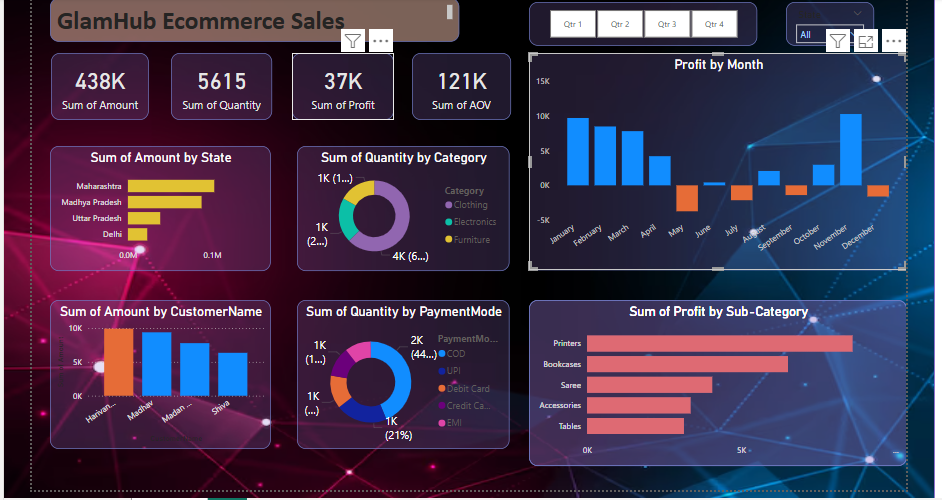

Layout of this report page (visuals, bound fields, positions):
{"tool":"powerbi","page":{"name":"Page 1","canvas":[1280,720],"ordinal":0},"visuals":[{"type":"textbox","box":[26.3,0,598.5,64.4],"z":0},{"type":"columnChart","title":"Profit by Month","fields":{"Y":["Sum(Details.Profit)"],"Category":["Orders.Order Date.Variation.Date Hierarchy.Month"]},"box":[727.3,80.5,553.2,317.6],"z":1000},{"type":"barChart","fields":{"Y":["Sum(Details.Profit)"],"Category":["Details.Sub-Category"]},"box":[727.3,442,553.2,242.9],"z":2000},{"type":"donutChart","fields":{"Category":["Details.Category"],"Y":["Sum(Details.Quantity)"]},"box":[387.2,216.4,311.1,182.6],"z":3000},{"type":"donutChart","fields":{"Y":["Sum(Details.Quantity)"],"Category":["Details.PaymentMode"]},"box":[387.2,441.3,311.1,218.1],"z":4000},{"type":"card","fields":{"Values":["Sum(Details.Amount)"]},"box":[27.8,80.5,143.4,98],"z":5000},{"type":"card","fields":{"Values":["Sum(Details.Quantity)"]},"box":[203.4,80.5,147.8,98],"z":6000},{"type":"card","fields":{"Values":["Sum(Details.Profit)"]},"box":[380.5,80.5,149.3,98],"z":7000},{"type":"card","fields":{"Values":["Sum(Details.AOV)"]},"box":[556.1,80.5,144.9,98],"z":8000},{"type":"barChart","fields":{"Y":["Sum(Details.Profit)"],"Category":["Details.Sub-Category"]},"box":[726.8,442,553.2,242.9],"z":9000},{"type":"barChart","fields":{"Y":["Sum(Details.Amount)"],"Category":["Orders.State"]},"box":[27.1,216.4,323,182.6],"z":10000},{"type":"columnChart","fields":{"Category":["Orders.CustomerName"],"Y":["Sum(Details.Amount)"]},"box":[27.1,441.3,323,218.1],"z":11000},{"type":"slicer","fields":{"Values":["Orders.Order Date.Variation.Date Hierarchy.Quarter"]},"box":[727.3,5.9,333.7,64.4],"z":12000},{"type":"slicer","fields":{"Values":["Orders.State"]},"box":[1103.4,5.9,128.8,64.4],"z":13000}]}

Visuals, with their boxes on the page's 1280x720 design canvas (x1, y1, x2, y2). These are canvas units, not pixel positions in the 942x500 screenshot, which may show the page scaled, cropped or inside an application window:
textbox: {"left": 26, "top": 0, "right": 625, "bottom": 64}
"Profit by Month" columnChart: {"left": 727, "top": 80, "right": 1280, "bottom": 398}
barChart - Sum(Details.Profit) x Details.Sub-Category: {"left": 727, "top": 442, "right": 1280, "bottom": 685}
donutChart - Details.Category x Sum(Details.Quantity): {"left": 387, "top": 216, "right": 698, "bottom": 399}
donutChart - Sum(Details.Quantity) x Details.PaymentMode: {"left": 387, "top": 441, "right": 698, "bottom": 659}
card - Sum(Details.Amount): {"left": 28, "top": 80, "right": 171, "bottom": 178}
card - Sum(Details.Quantity): {"left": 203, "top": 80, "right": 351, "bottom": 178}
card - Sum(Details.Profit): {"left": 380, "top": 80, "right": 530, "bottom": 178}
card - Sum(Details.AOV): {"left": 556, "top": 80, "right": 701, "bottom": 178}
barChart - Sum(Details.Profit) x Details.Sub-Category: {"left": 727, "top": 442, "right": 1280, "bottom": 685}
barChart - Sum(Details.Amount) x Orders.State: {"left": 27, "top": 216, "right": 350, "bottom": 399}
columnChart - Orders.CustomerName x Sum(Details.Amount): {"left": 27, "top": 441, "right": 350, "bottom": 659}
slicer - Orders.Order Date.Variation.Date Hierarchy.Quarter: {"left": 727, "top": 6, "right": 1061, "bottom": 70}
slicer - Orders.State: {"left": 1103, "top": 6, "right": 1232, "bottom": 70}
